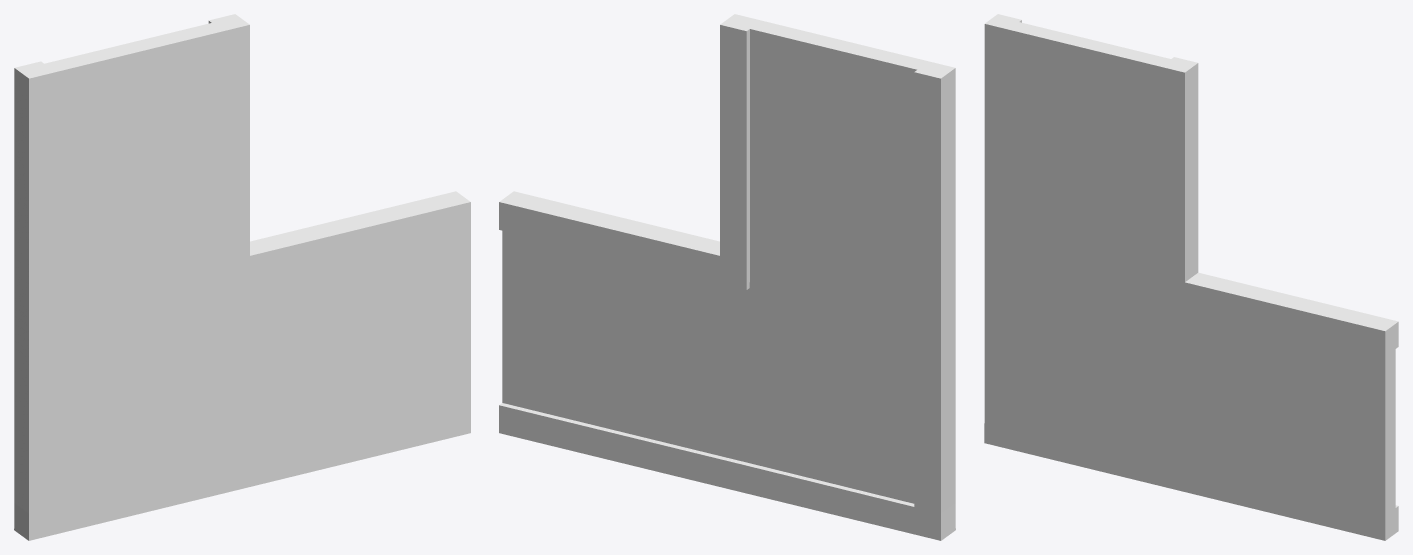
The model's file is venice_road_5.fbx.
3 renders of one model, left to right at view 1: azimuth 30°, elevation 25°; view 2: azimuth 150°, elevation 25°; view 3: azimuth 330°, elevation 25°, orthographic. The views are drawn at different scales.
Visible parts, largest first — view 1: Cube.293; view 2: Cube.293; view 3: Cube.293.
Boxes of the visible parts, x1=… form: Cube.293: x1=14, y1=14, x2=470, y2=540; Cube.293: x1=499, y1=14, x2=955, y2=540; Cube.293: x1=984, y1=14, x2=1398, y2=540.
Bounding box in the file's own units: 1101 × 1101 × 63.5.
